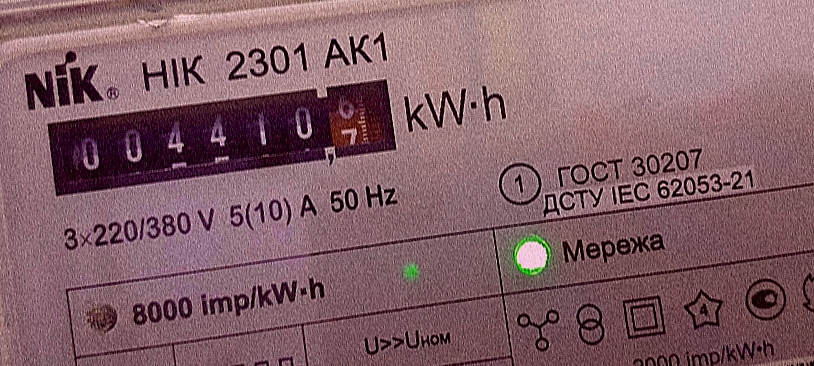0: (77, 132, 103, 172), (122, 124, 145, 165), (292, 103, 316, 141)
1: (253, 109, 271, 148)
4: (162, 115, 189, 156), (205, 110, 232, 151)
6: (337, 92, 358, 120)
7: (340, 125, 361, 147)
screen: (34, 62, 412, 210)
